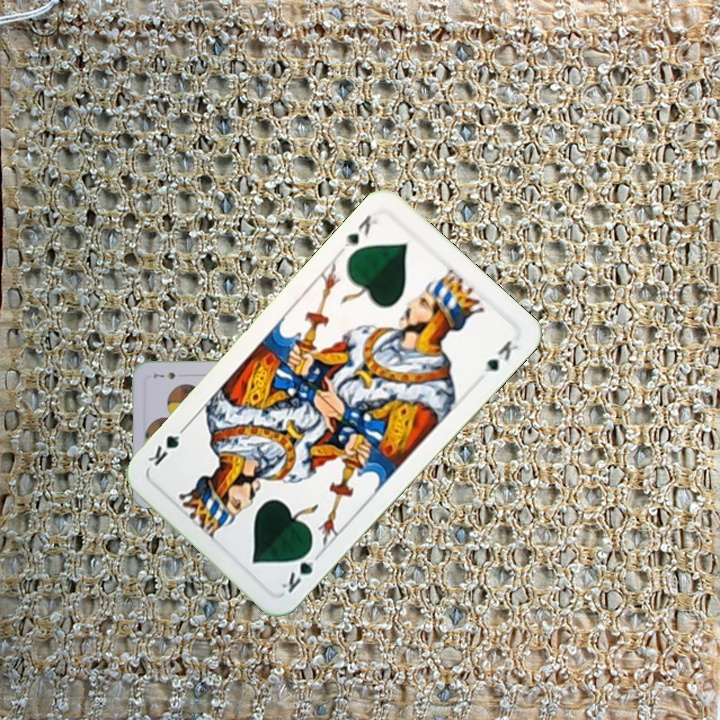GK: (276, 543, 324, 595), (340, 211, 381, 250)
